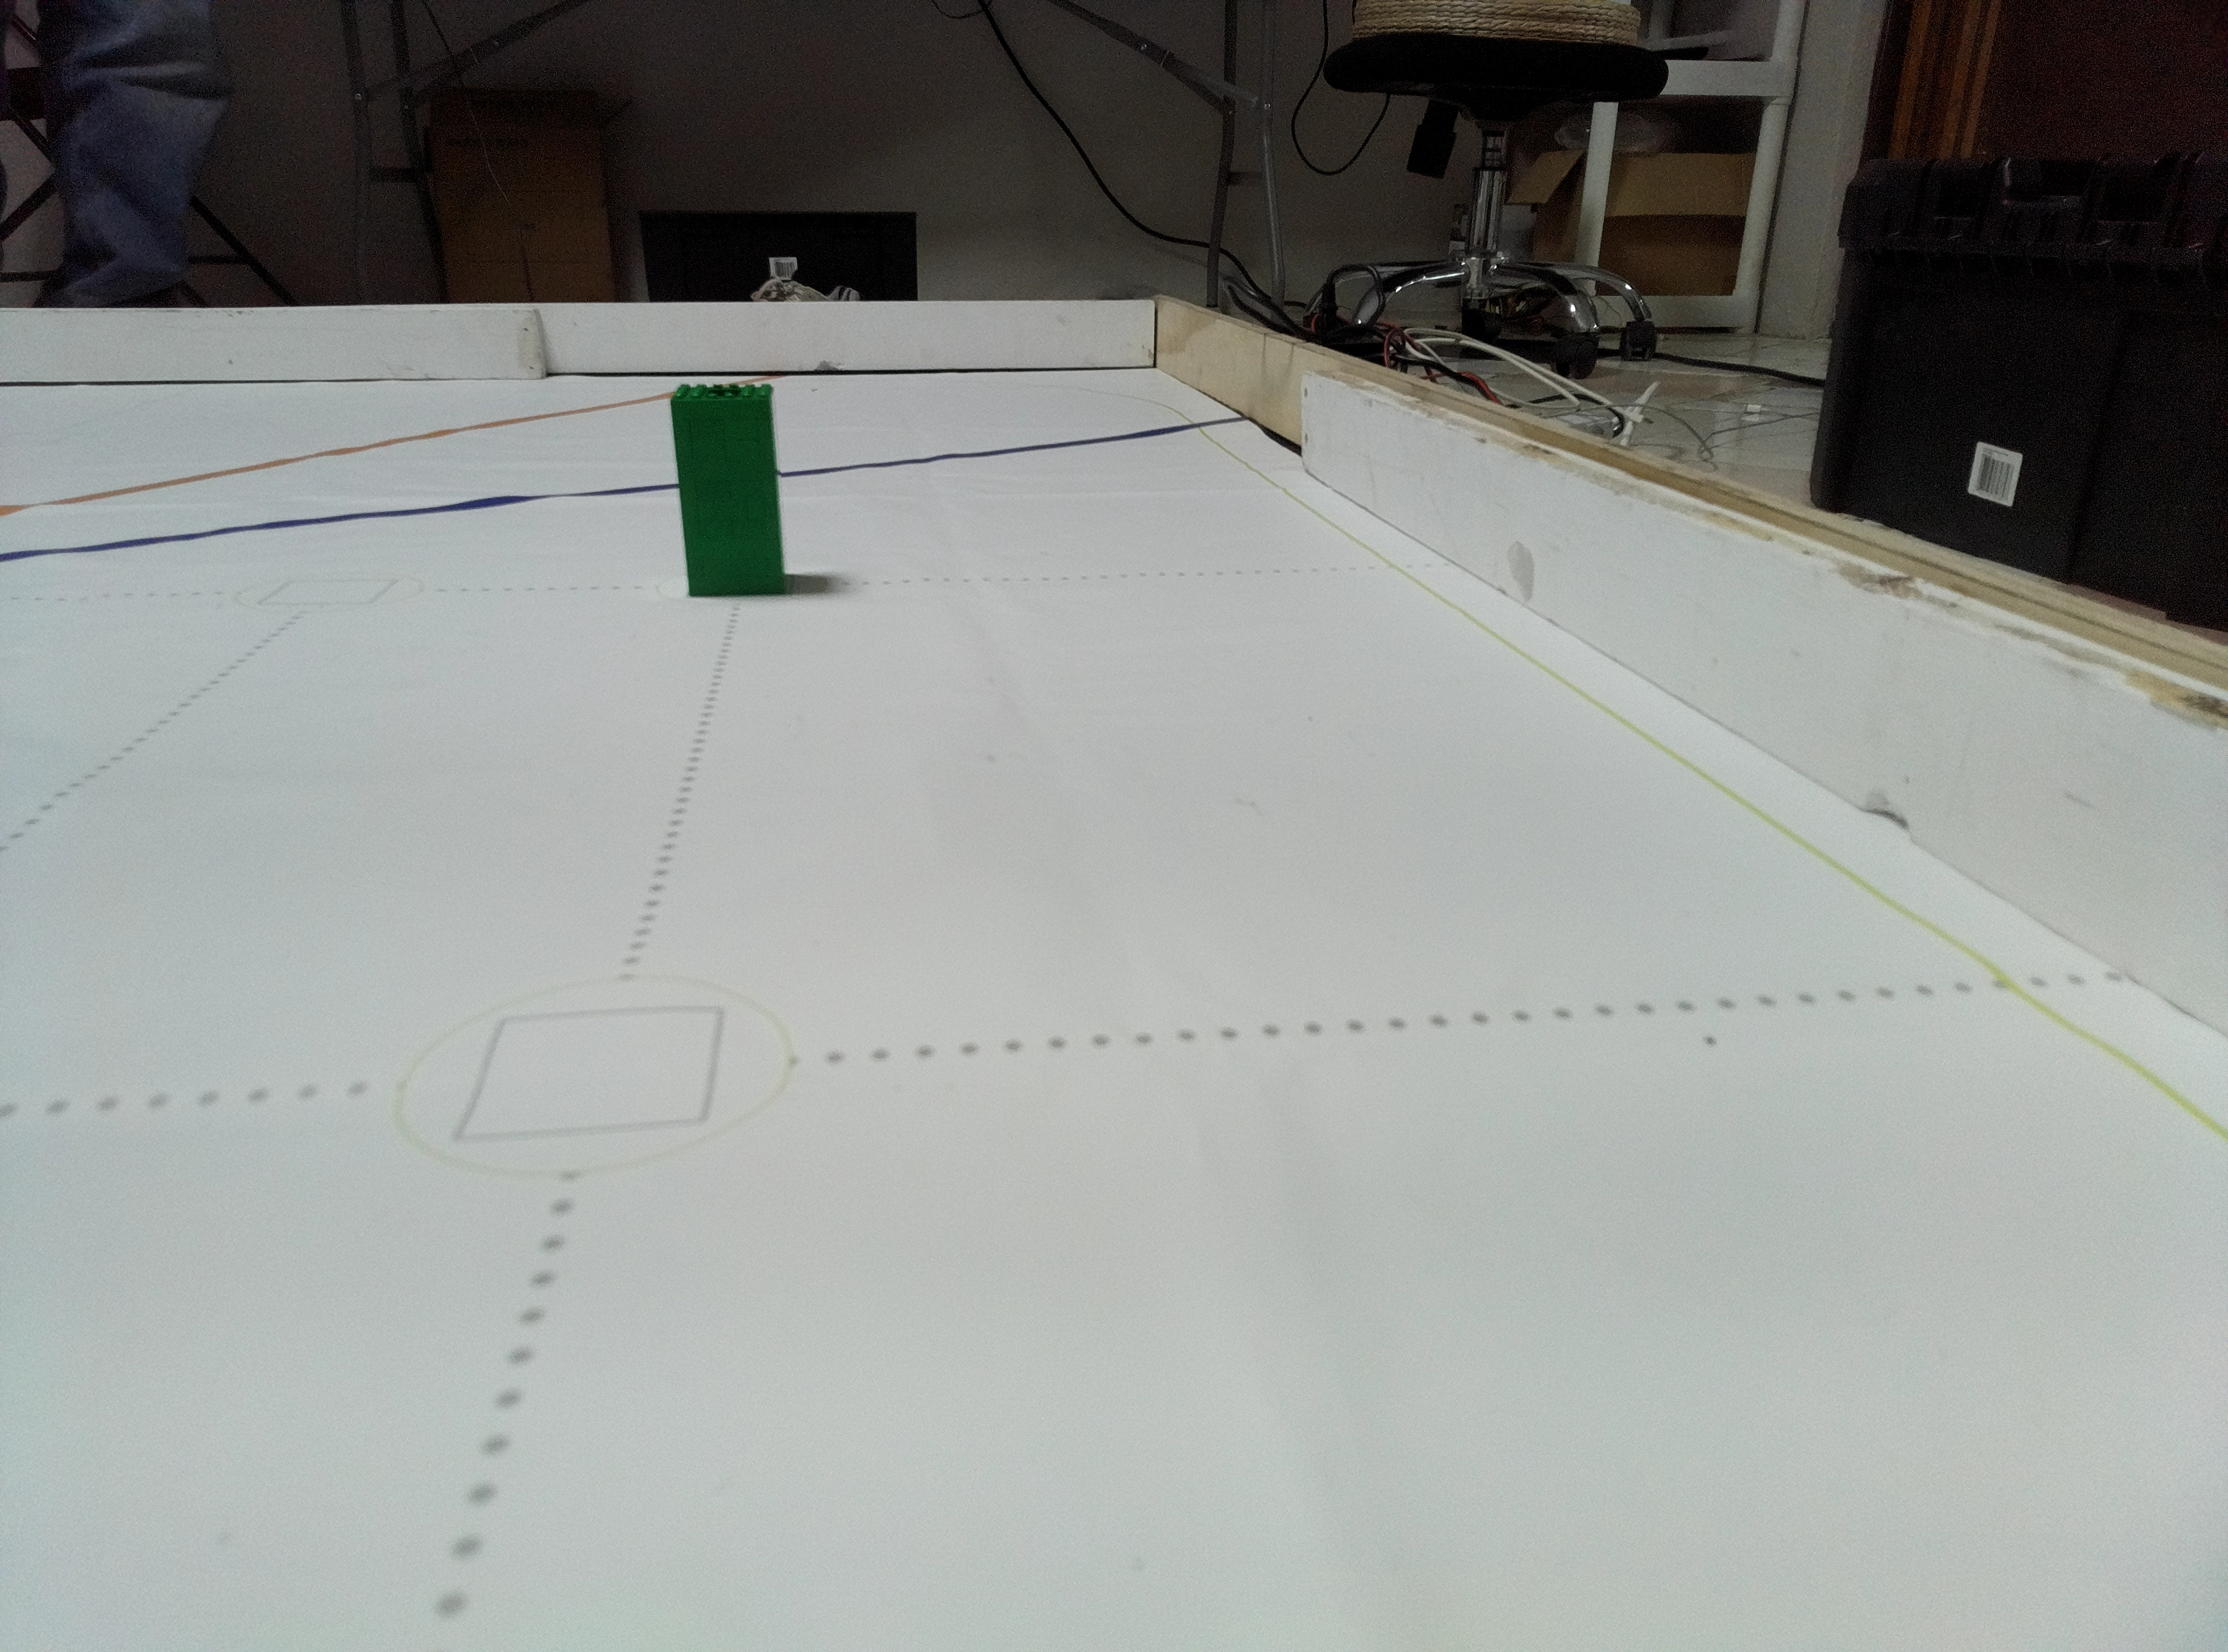greenbox: (666, 378, 786, 595)
